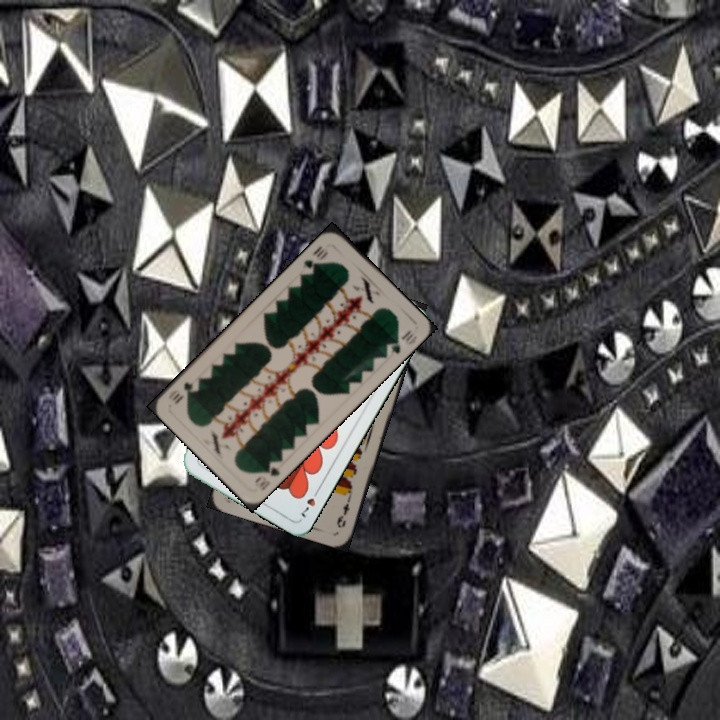E9: (332, 493, 353, 530)
G10: (250, 457, 283, 493), (298, 242, 330, 277)
H7: (296, 484, 322, 520)
